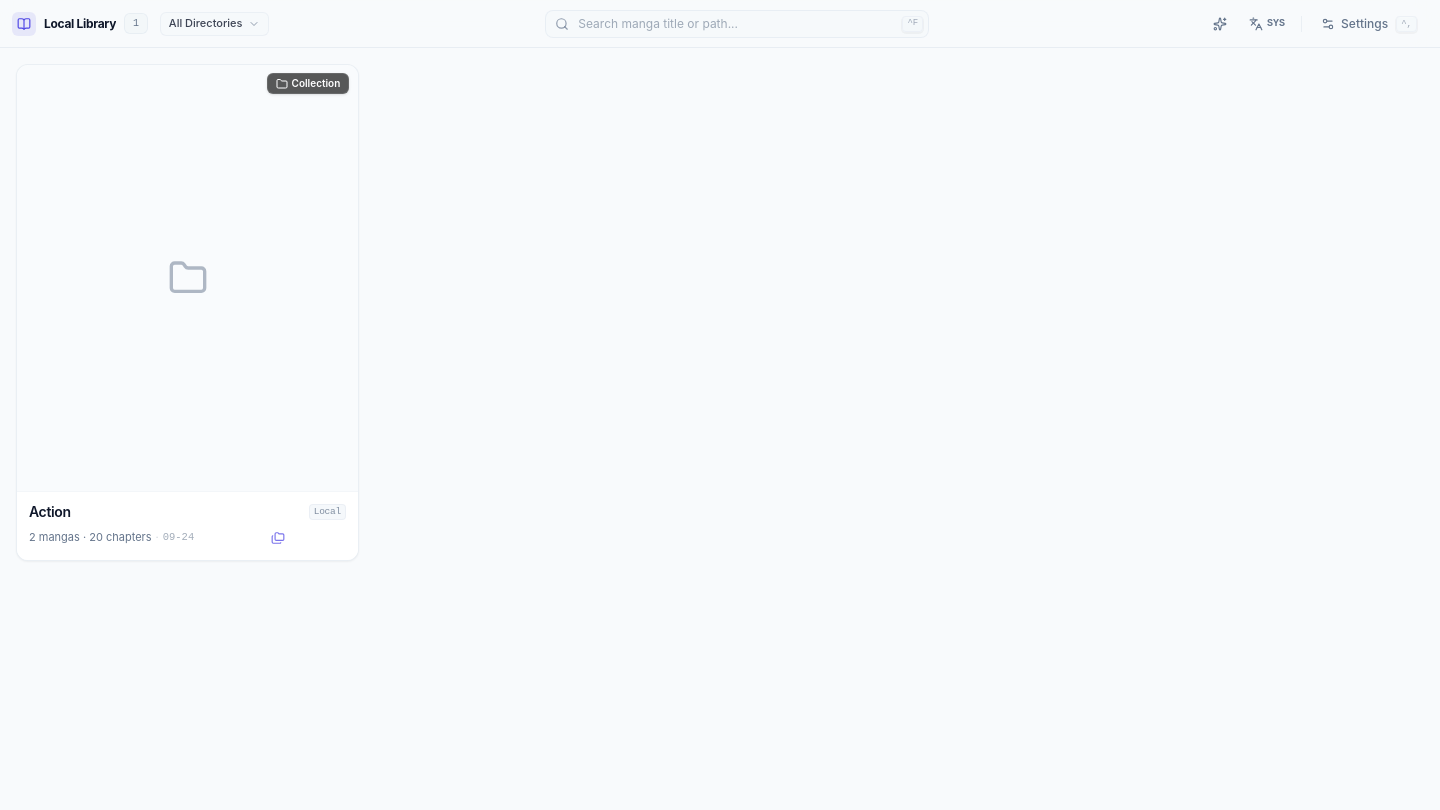
it: App Collection View in Duplicate Merge Mode › displays both local and remote child mangas in merge mode
Click on Action collection
What coordinates should you click on to do the following:
click the heading "Action"
I would click on:
 (50, 512)
Its box is [29, 503, 71, 520].
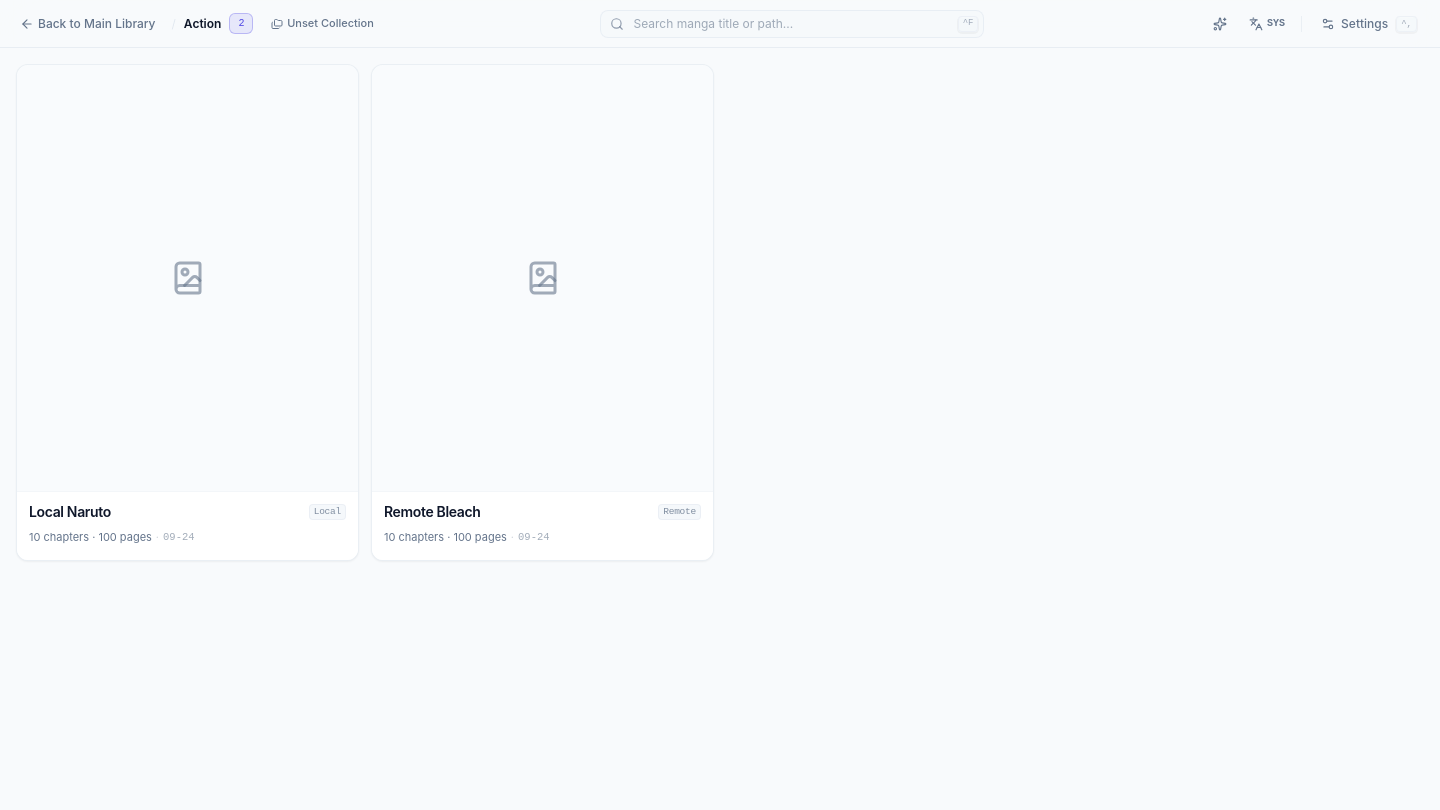
Check: the heading "Local Naruto" is shown, box [29, 503, 111, 520]
Check: the heading "Remote Bleach" is shown, box [384, 503, 480, 520]
